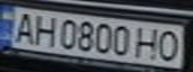0: (54, 17, 78, 51), (93, 20, 115, 55), (112, 24, 133, 57)
8: (75, 18, 96, 52)
A: (9, 9, 39, 45)
H: (133, 25, 163, 61), (30, 12, 60, 47)
O: (154, 28, 184, 63)
